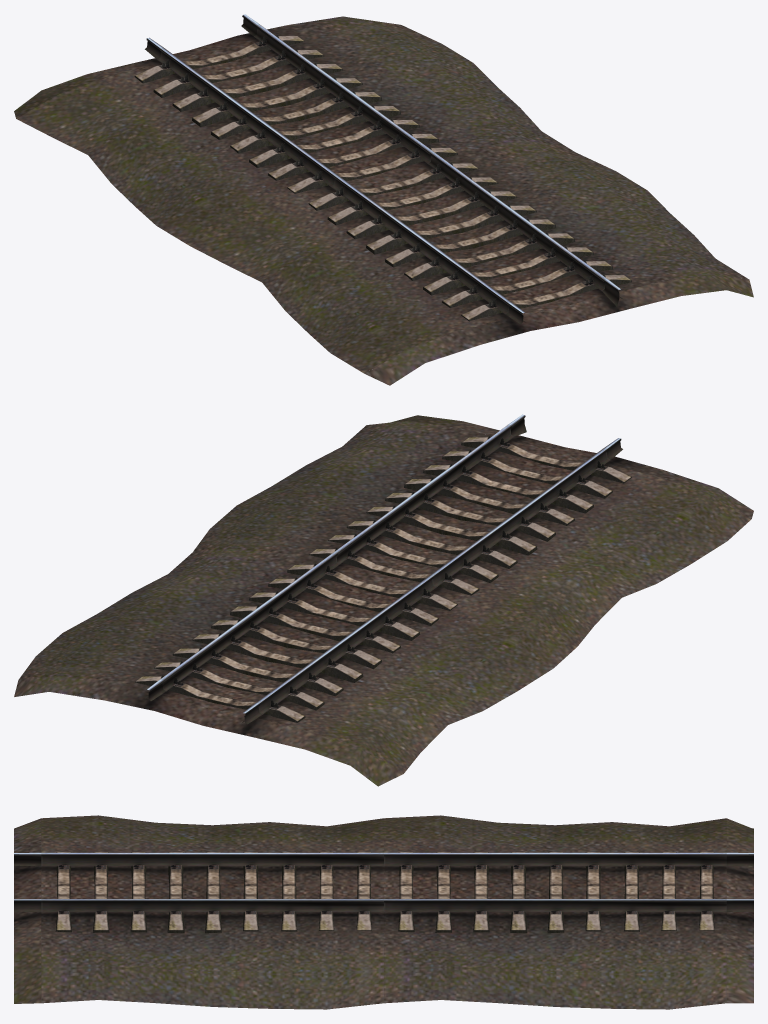
File: 1track_10_TSM.gltf
The picture shows the model from 3 angles, top to bottom: view 1: azimuth 30°, elevation 25°; view 2: azimuth 150°, elevation 25°; view 3: azimuth 270°, elevation 25°; orthographic projection.
Size of the model in its own units: 6.7 by 0.6438 by 10.8.
Materials: 1 (1 with a texture image).
